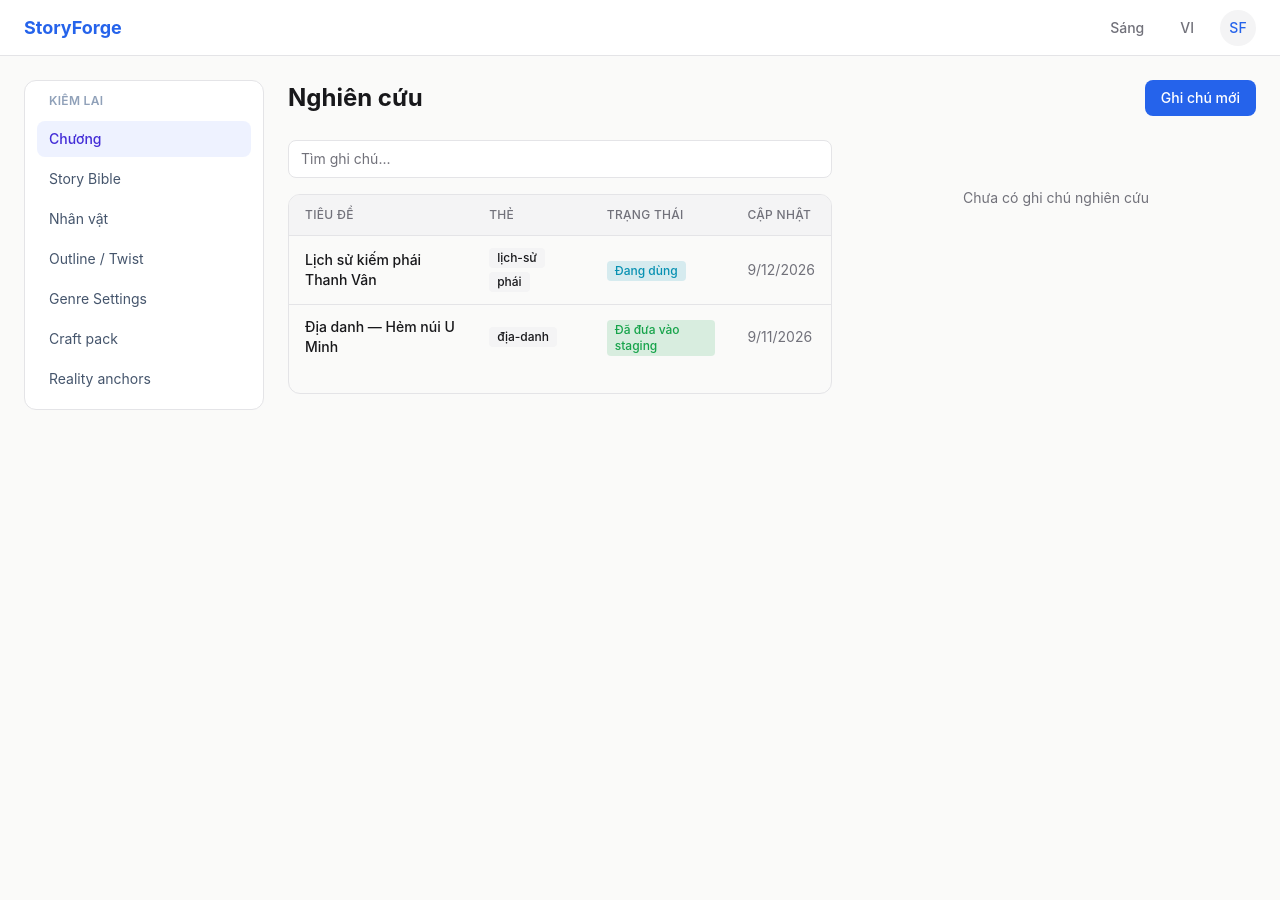
research components › ResearchInboxPage opens promote modal
The image size is (1280, 900).
Click the text "Lịch sử kiếm phái Thanh Vân" at x=381, y=270, box [289, 236, 473, 304]
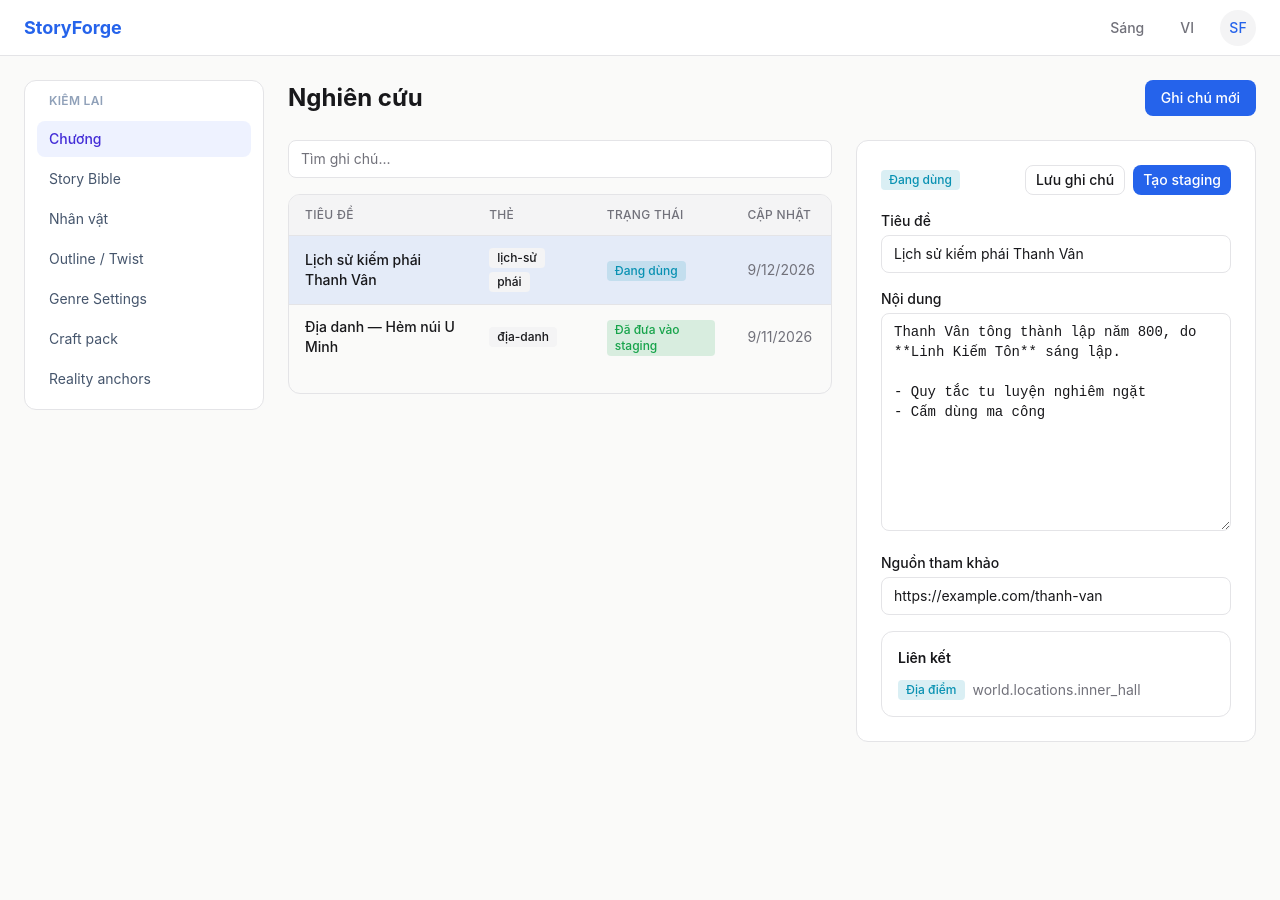
Click the button "Tạo staging" at x=1182, y=180, box [1133, 165, 1231, 195]
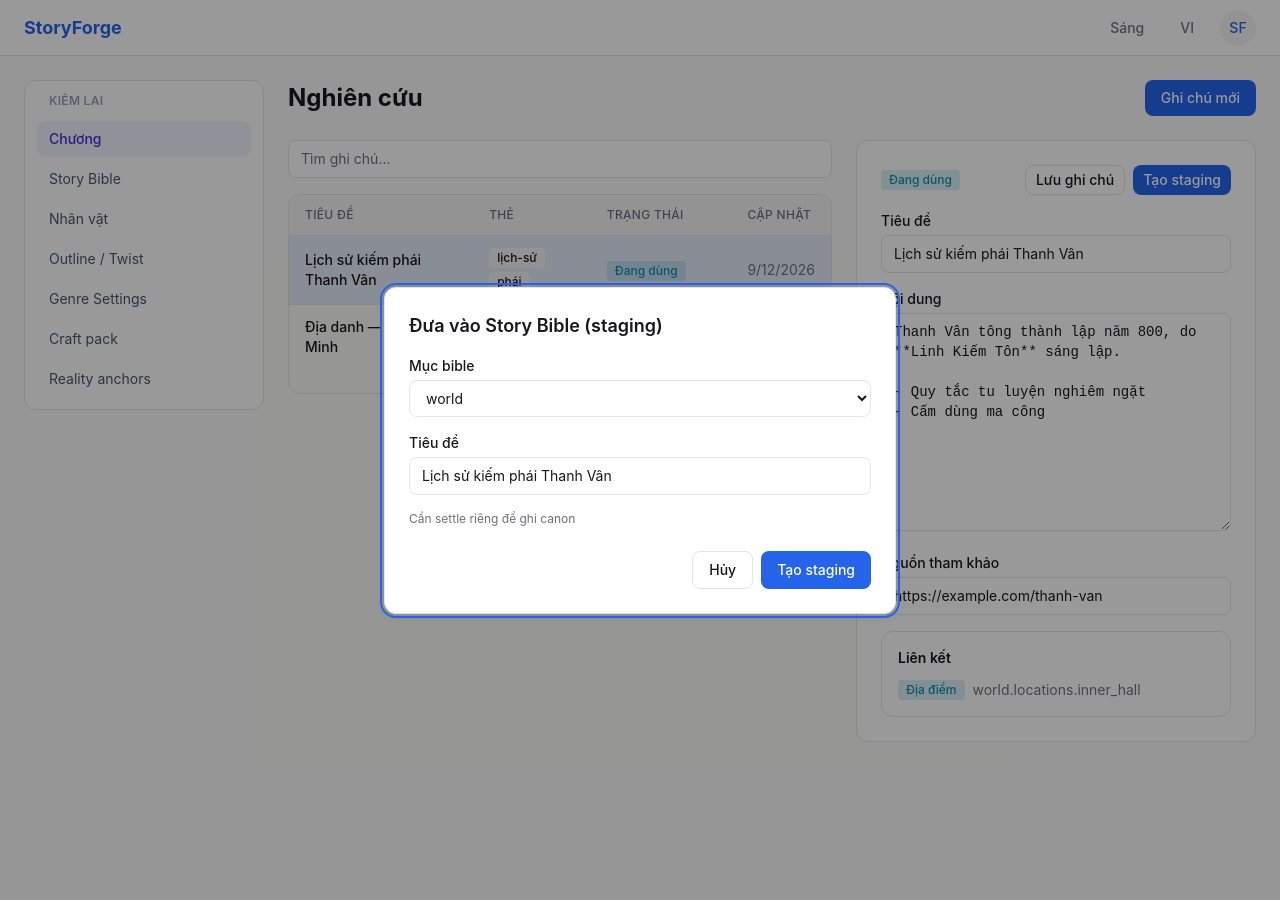
Expected: the heading "Đưa vào Story Bible (staging)" is shown, [409, 314, 663, 336]
